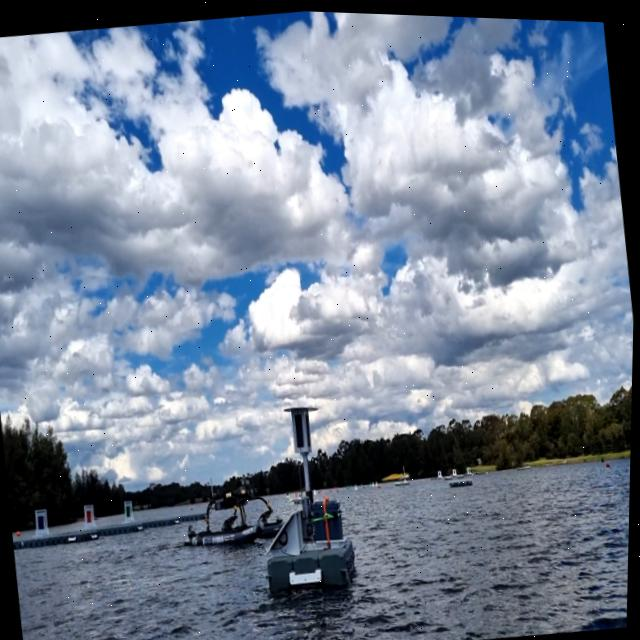led: (293, 408, 309, 447)
